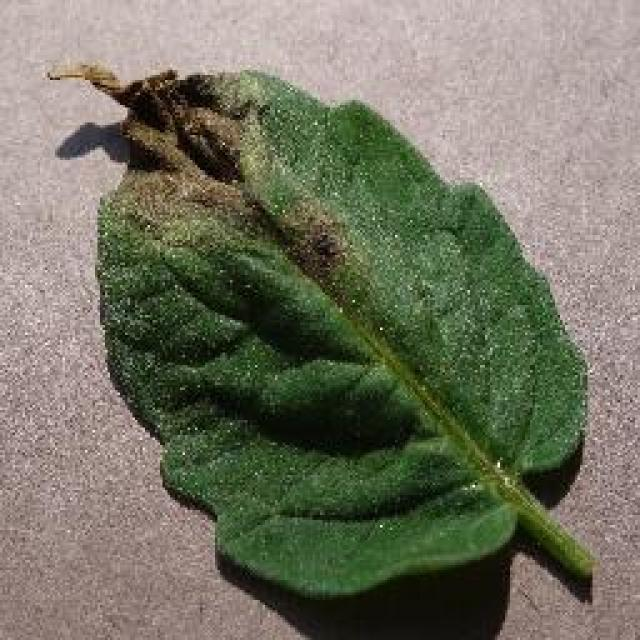Tomato late blight leaf: (50, 65, 590, 597)
